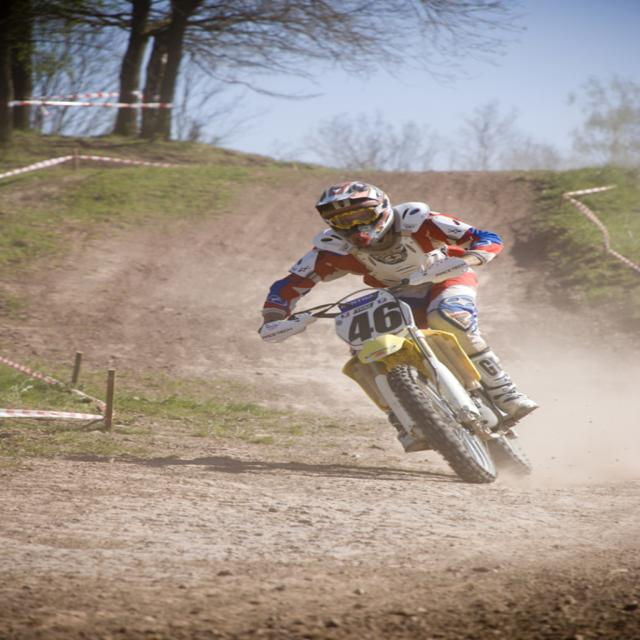Motorbikes: (226, 286, 544, 485)
